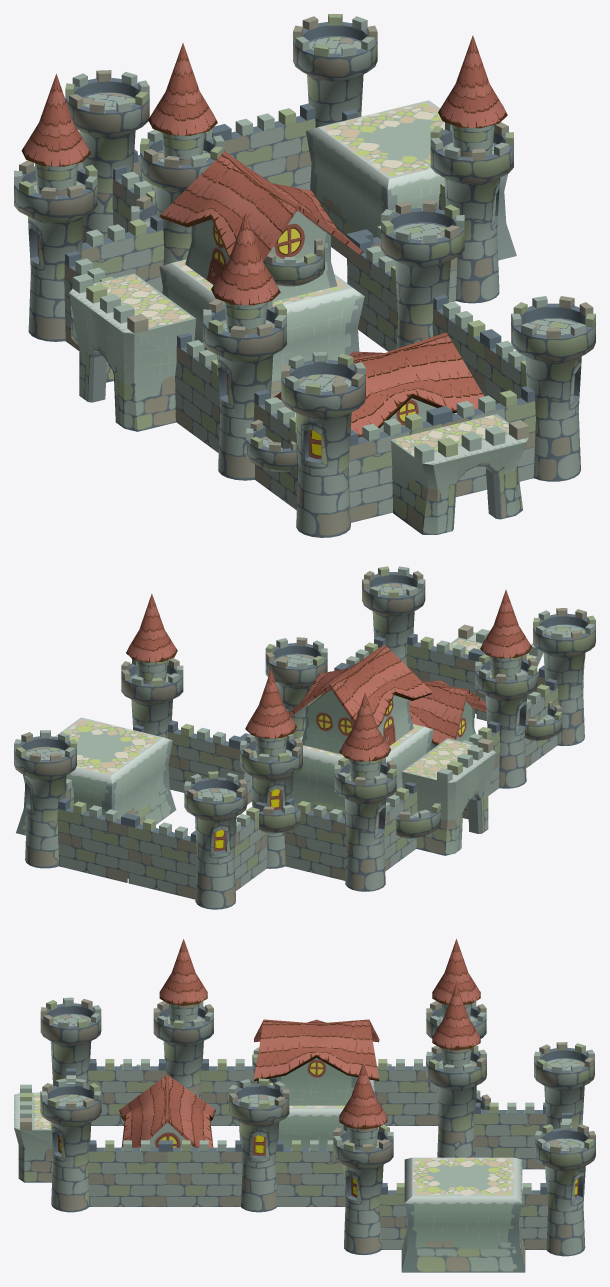
File: castelo.FBX
3 renders of one model, top to bottom at view 1: azimuth 30°, elevation 25°; view 2: azimuth 150°, elevation 25°; view 3: azimuth 270°, elevation 25°, orthographic. The views are drawn at different scales.
Visible parts, largest first — view 1: baseCastelo004, portaoCastelo01, portaoCastelo002, torre003, torre004, telhadoCentral01, torre009, torre01, torre007, torre002, baseCastelo01, torre006 (+25 smaller); view 2: baseCastelo004, portaoCastelo01, torre006, torre008, torre01, torre003, muroCastelo012, telhadoCentral01, muroCastelo011, torre002, torre004, baseCastelo01 (+26 smaller); view 3: baseCastelo004, telhadoCentral01, torre008, torre004, torre007, muroCastelo008, torre009, muroCastelo009, torre005, telhadoCentral002, muroCastelo010, torre006 (+20 smaller).
Part boxes in pixels (left/top/right/bottom): baseCastelo004: left=306, top=100, right=516, bottom=260; portaoCastelo01: left=69, top=273, right=195, bottom=431; portaoCastelo002: left=390, top=414, right=528, bottom=534; torre003: left=281, top=352, right=365, bottom=537; torre004: left=511, top=296, right=595, bottom=481; telhadoCentral01: left=160, top=151, right=362, bottom=261; torre009: left=430, top=122, right=513, bottom=303; torre01: left=14, top=160, right=97, bottom=341; torre007: left=381, top=200, right=464, bottom=348; torre002: left=203, top=299, right=286, bottom=480; baseCastelo01: left=159, top=259, right=364, bottom=407; torre006: left=65, top=70, right=149, bottom=242; baseCastelo004: left=16, top=717, right=176, bottom=835; portaoCastelo01: left=401, top=738, right=495, bottom=855; torre006: left=184, top=771, right=247, bottom=909; torre008: left=14, top=730, right=76, bottom=868; torre01: left=334, top=757, right=396, bottom=891; torre003: left=533, top=608, right=595, bottom=745; muroCastelo012: left=57, top=798, right=133, bottom=882; telhadoCentral01: left=289, top=644, right=432, bottom=727; muroCastelo011: left=127, top=815, right=196, bottom=899; torre002: left=475, top=654, right=537, bottom=788; torre004: left=362, top=566, right=425, bottom=665; baseCastelo01: left=291, top=724, right=433, bottom=818; baseCastelo004: left=401, top=1157, right=525, bottom=1272; telhadoCentral01: left=254, top=1019, right=379, bottom=1081; torre008: left=535, top=1122, right=595, bottom=1256; torre004: left=40, top=1078, right=101, bottom=1212; torre007: left=229, top=1078, right=289, bottom=1212; muroCastelo008: left=88, top=1140, right=167, bottom=1206; torre009: left=333, top=1124, right=393, bottom=1255; muroCastelo009: left=164, top=1140, right=242, bottom=1206; torre005: left=426, top=1045, right=486, bottom=1157; telhadoCentral002: left=119, top=1074, right=215, bottom=1147; muroCastelo010: left=275, top=1140, right=345, bottom=1206; torre006: left=534, top=1042, right=594, bottom=1128.
Size of the model in its own units: 460 by 238 by 676.
